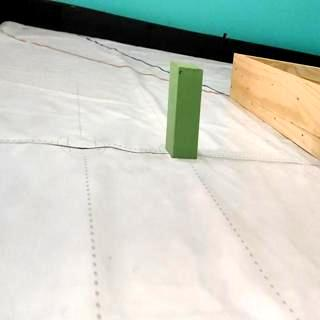greenbox: (166, 60, 204, 158)
